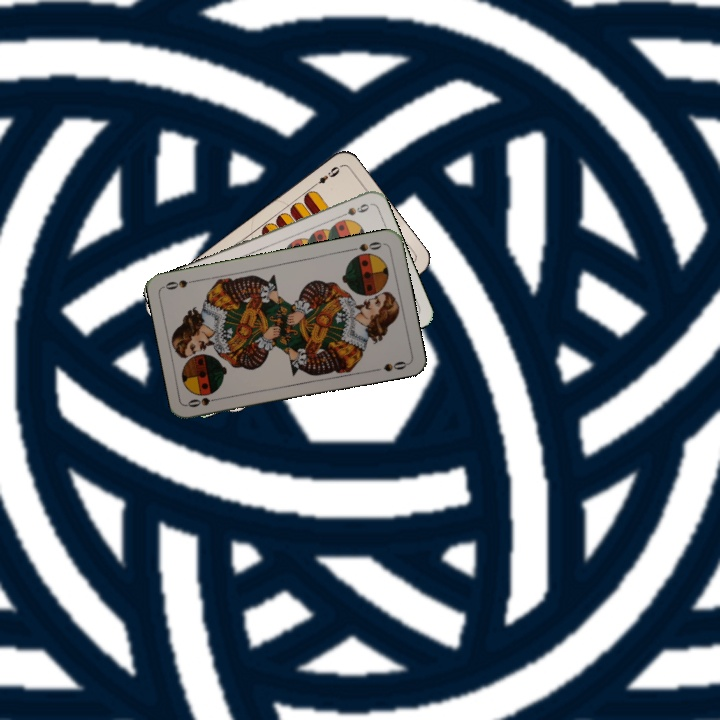E9: (308, 162, 342, 191)
S9: (333, 199, 372, 221)
SO: (184, 393, 225, 410), (346, 238, 384, 254)
